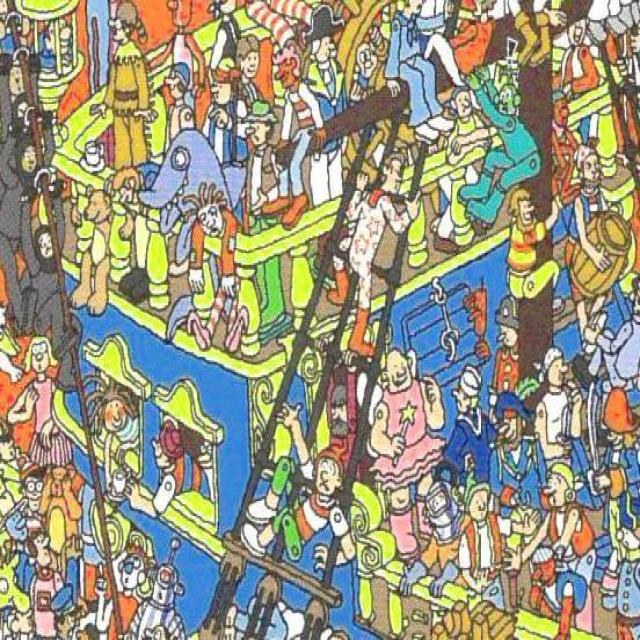waldo: (18, 456, 48, 511)
